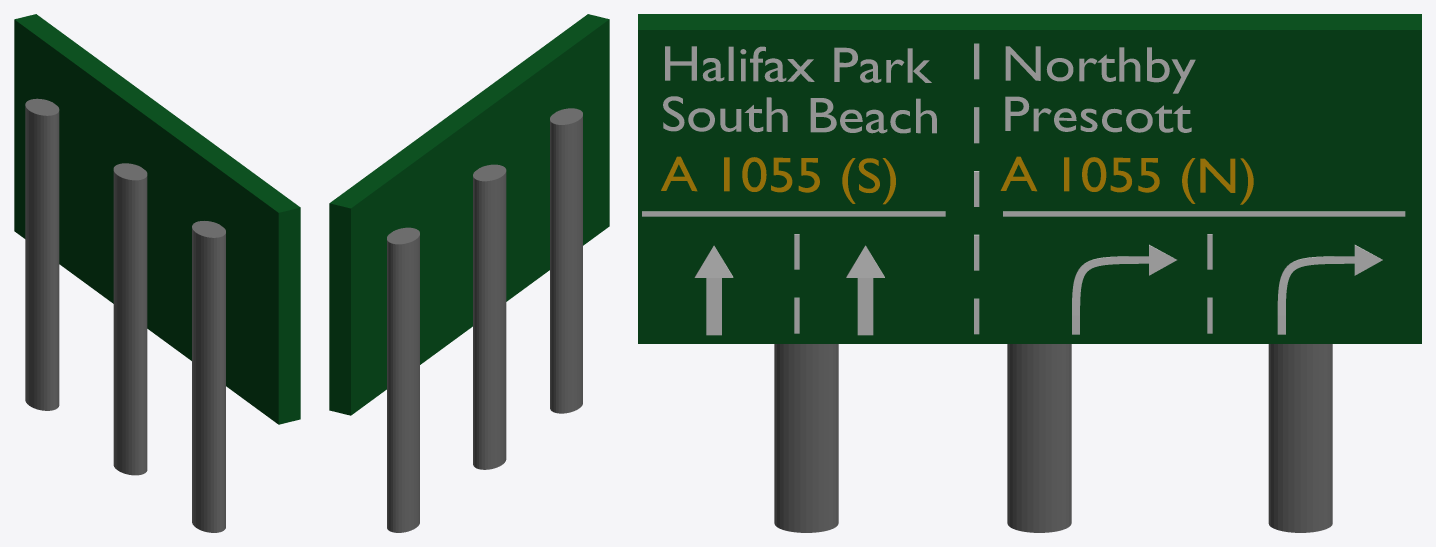
Rendered from HalifaxParkRoundaboutSign1.fbx.
3 renders of one model, left to right at view 1: azimuth 30°, elevation 25°; view 2: azimuth 150°, elevation 25°; view 3: azimuth 270°, elevation 25°, orthographic. The views are drawn at different scales.
Visible parts, largest first — view 1: HalifaxSign1_LOD0; view 2: HalifaxSign1_LOD0; view 3: HalifaxSign1_LOD0, Text, Text.002, Text.003, Text.001.
Boxes of the visible parts, box(x1,y1,x2,y2) form: HalifaxSign1_LOD0: box(14, 14, 300, 532); HalifaxSign1_LOD0: box(329, 14, 609, 532); HalifaxSign1_LOD0: box(638, 14, 1421, 532); Text: box(663, 46, 936, 133); Text.002: box(1005, 46, 1195, 132); Text.003: box(1000, 156, 1253, 204); Text.001: box(661, 156, 895, 204).
Size of what is drawn, in the model's own units: 84.24 by 548 by 750.
